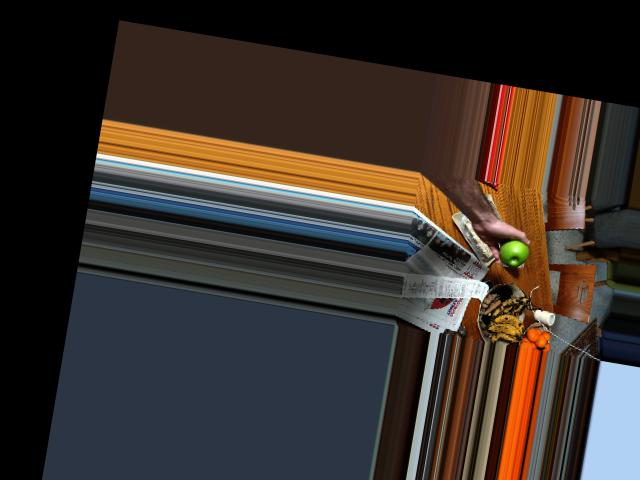apple: (494, 234, 532, 271)
